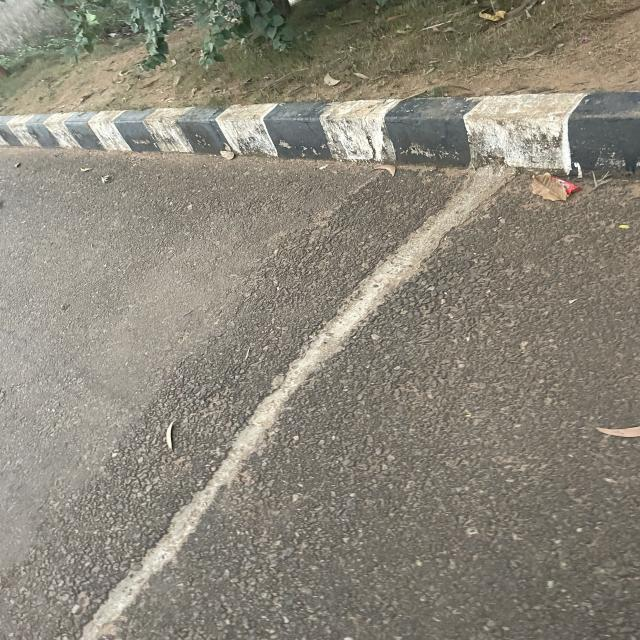D01: (35, 171, 545, 636)
